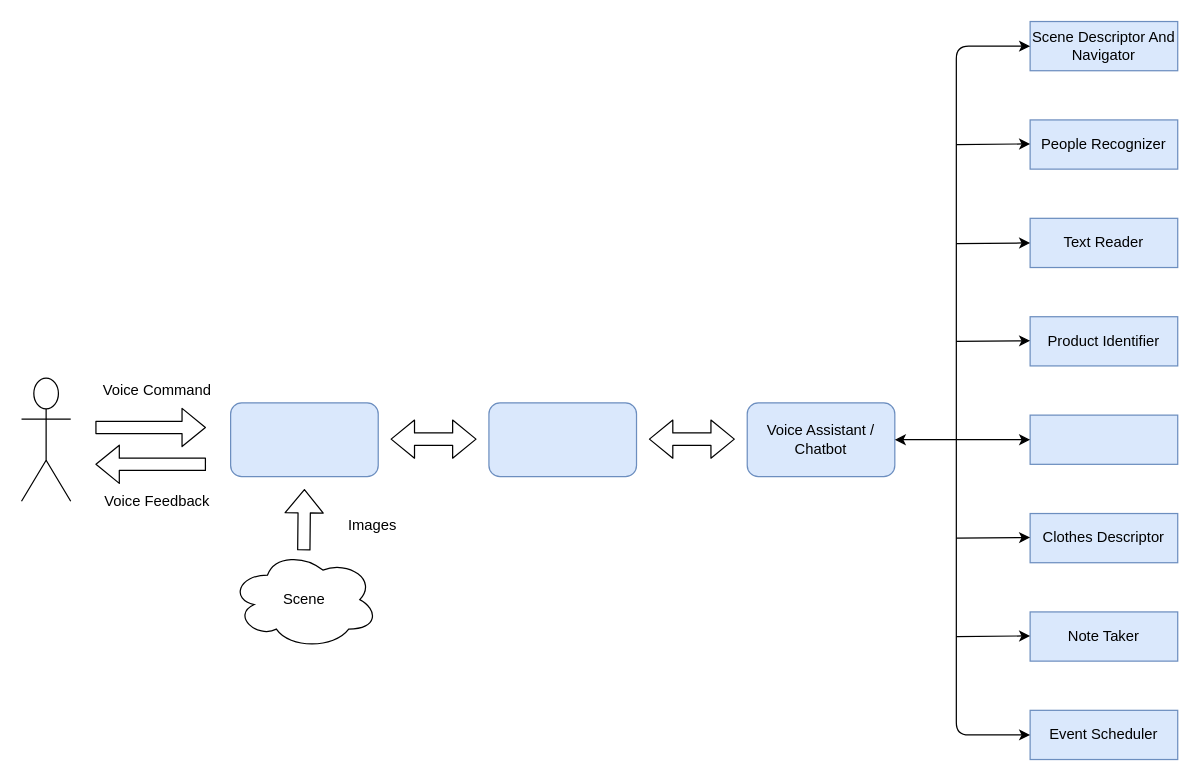
Some shapes in this 1199 by 781 pixel diagram are drawn without their labels. Here are the shapes that lost their labels. From the top down, the box of each, then its label:
(20, 377, 71, 501): User
(229, 402, 378, 477): Mobile Device (OS and Camera)
(488, 402, 637, 477): Mobile Application
(1029, 414, 1178, 464): Currency Detector
